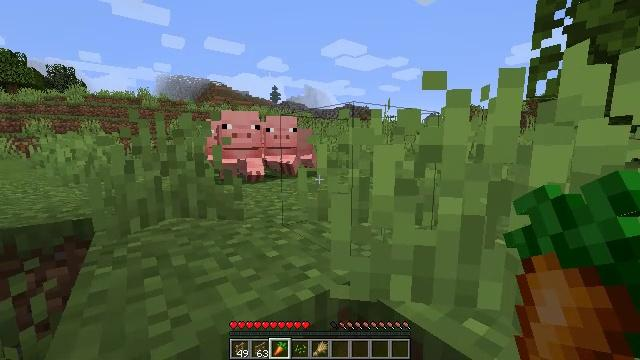pig: (215, 110, 264, 180), (263, 116, 315, 176), (199, 120, 220, 156)
